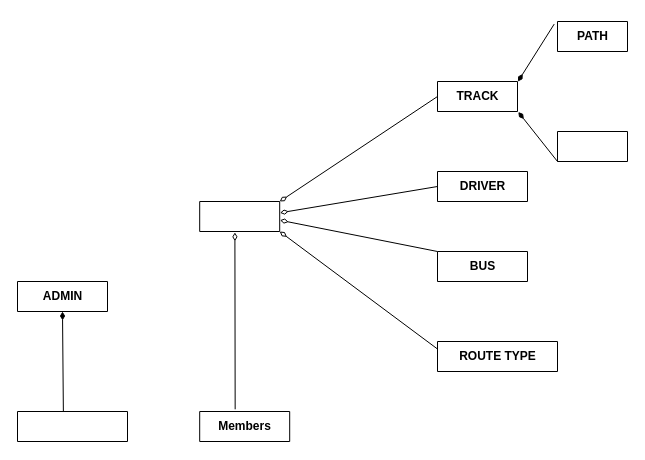
The diagram is 645 pixels wide and 460 high, and some of its shapes have lost their labels. Each missing label, with the box of its shape:
MESSAGES: (16, 410, 128, 442)
ROUTE: (199, 200, 280, 232)
STOP: (556, 130, 628, 162)
